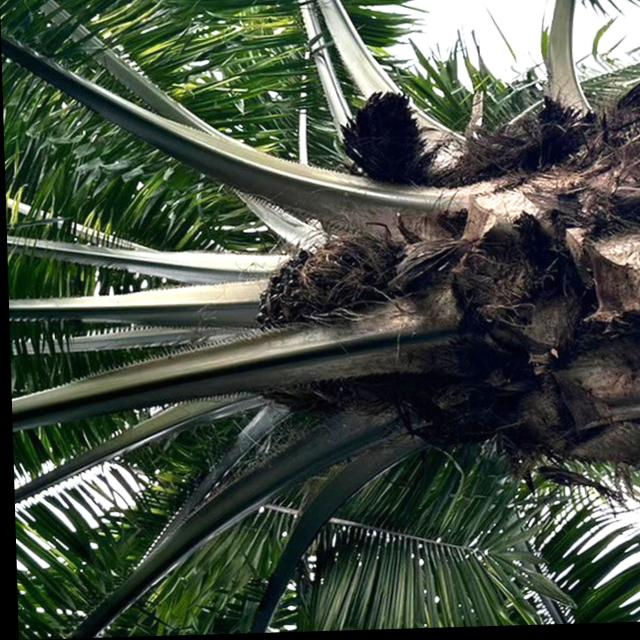almost: (243, 236, 398, 354)
